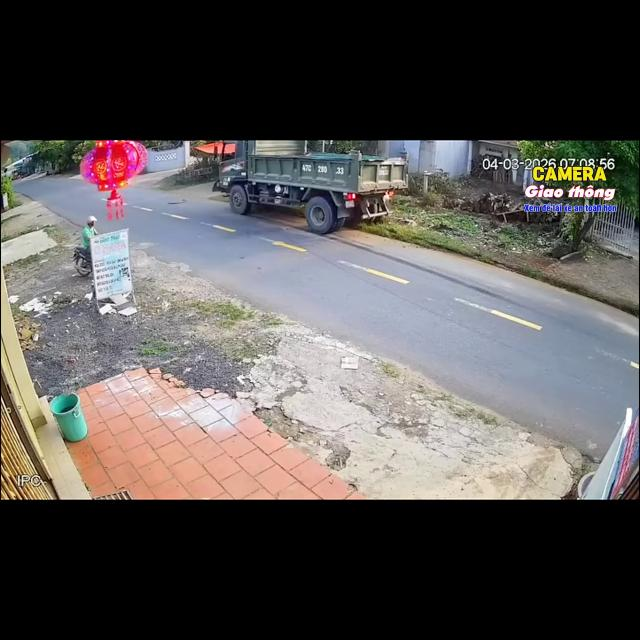motorcycle: (74, 247, 92, 276)
truck: (213, 140, 407, 233)
